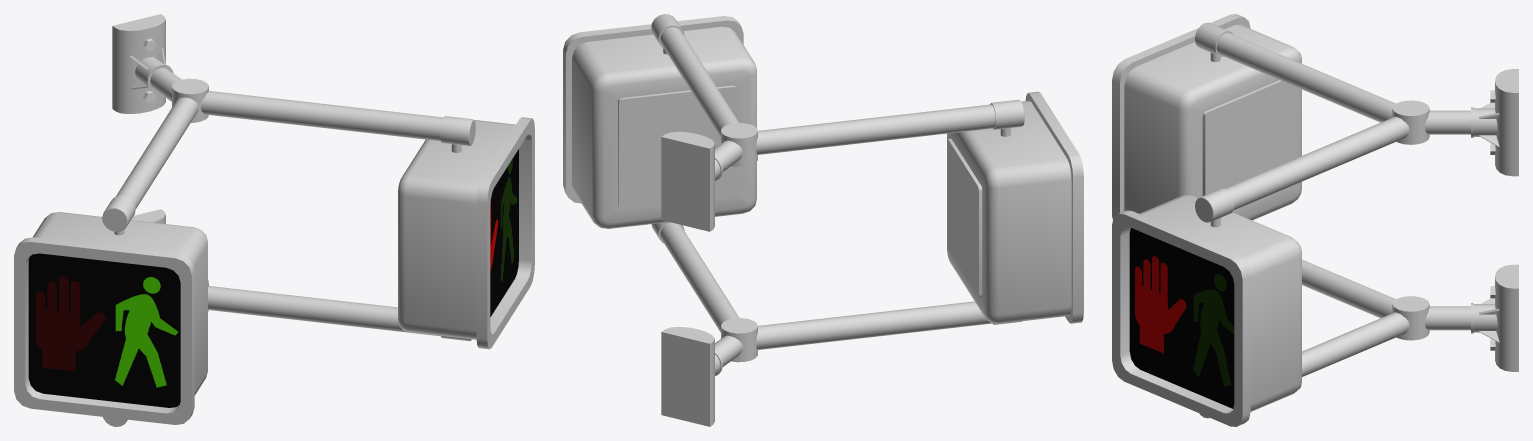
File: pedestrian_traffic_light_02_base_medium_black.fbx
The picture shows the model from 3 angles, left to right: view 1: azimuth 30°, elevation 25°; view 2: azimuth 150°, elevation 25°; view 3: azimuth 270°, elevation 25°; orthographic projection.
Visible parts, largest first — view 1: pedestrian_light_traffic_01_black_small.001, pedestrian_light_traffic_01_black_small, pedestrian_traffic_light_02_base_medium_black; view 2: pedestrian_traffic_light_02_base_medium_black, pedestrian_light_traffic_01_black_small, pedestrian_light_traffic_01_black_small.001; view 3: pedestrian_light_traffic_01_black_small, pedestrian_light_traffic_01_black_small.001, pedestrian_traffic_light_02_base_medium_black.
Part boxes in pixels (x1=…): pedestrian_light_traffic_01_black_small.001: x1=14, y1=212, x2=207, y2=424; pedestrian_light_traffic_01_black_small: x1=398, y1=117, x2=534, y2=349; pedestrian_traffic_light_02_base_medium_black: x1=102, y1=14, x2=475, y2=426; pedestrian_traffic_light_02_base_medium_black: x1=651, y1=14, x2=1024, y2=426; pedestrian_light_traffic_01_black_small: x1=563, y1=16, x2=756, y2=228; pedestrian_light_traffic_01_black_small.001: x1=947, y1=91, x2=1083, y2=323; pedestrian_light_traffic_01_black_small: x1=1112, y1=195, x2=1301, y2=426; pedestrian_light_traffic_01_black_small.001: x1=1112, y1=14, x2=1301, y2=220; pedestrian_traffic_light_02_base_medium_black: x1=1195, y1=22, x2=1518, y2=418.
Size of the model in its own units: 70.13 by 35.8 by 47.3.
